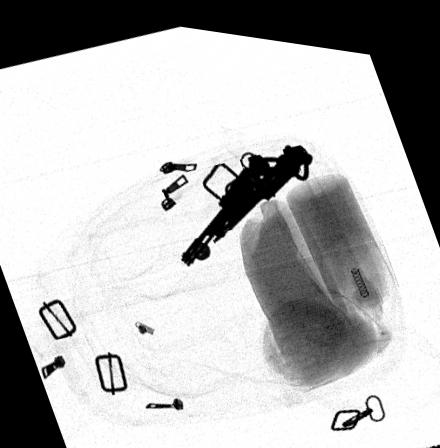HandCuffs: (181, 135, 313, 261)
